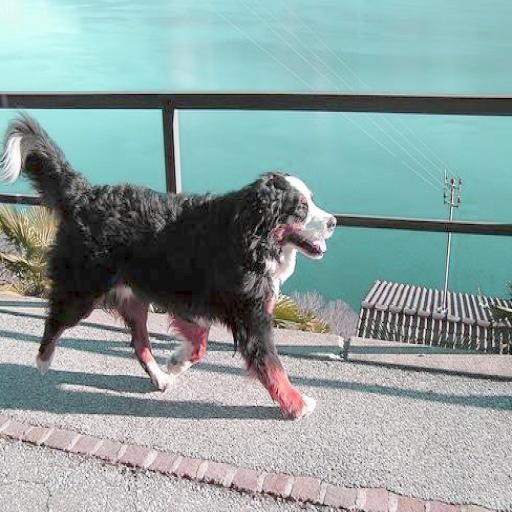dog_face: (257, 172, 336, 266)
